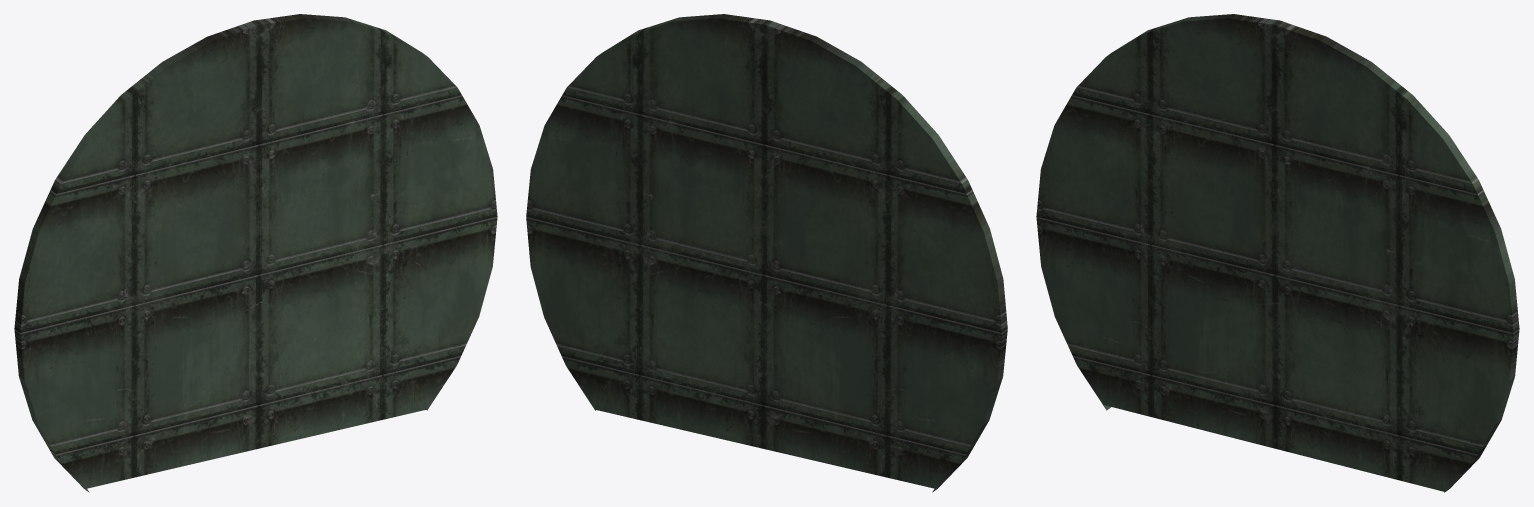
The model's file is Porta.fbx.
3 renders of one model, left to right at view 1: azimuth 30°, elevation 25°; view 2: azimuth 150°, elevation 25°; view 3: azimuth 330°, elevation 25°, orthographic.
Visible parts, largest first — view 1: Cylinder; view 2: Cylinder; view 3: Cylinder.
Boxes of the visible parts, x1,y1,x2,y2 form: Cylinder: (14, 14, 497, 492); Cylinder: (526, 14, 1007, 492); Cylinder: (1036, 14, 1519, 492).
Bounding box in the file's own units: 198 × 170 × 4.96.
1 material, 1 textured.
